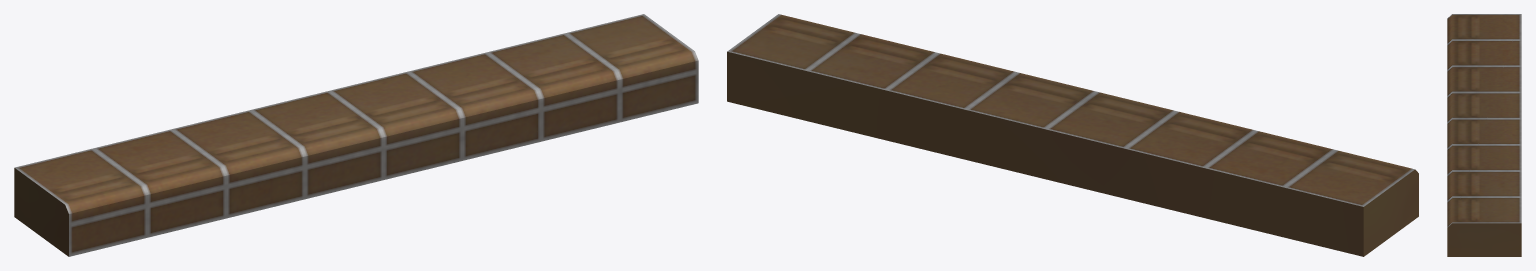
Rendered from set_floor_02b_02_onestep.fbx.
3 renders of one model, left to right at view 1: azimuth 30°, elevation 25°; view 2: azimuth 150°, elevation 25°; view 3: azimuth 270°, elevation 25°, orthographic. The views are drawn at different scales.
Parts seen in each view (by area): view 1: set_floor_02b_02_onestep; view 2: set_floor_02b_02_onestep; view 3: set_floor_02b_02_onestep.
Boxes of the visible parts, x1,y1,x2,y2 form: set_floor_02b_02_onestep: [14, 14, 698, 256]; set_floor_02b_02_onestep: [727, 14, 1418, 256]; set_floor_02b_02_onestep: [1447, 14, 1521, 256].
Bounding box in the file's own units: 200 × 15 × 30.
